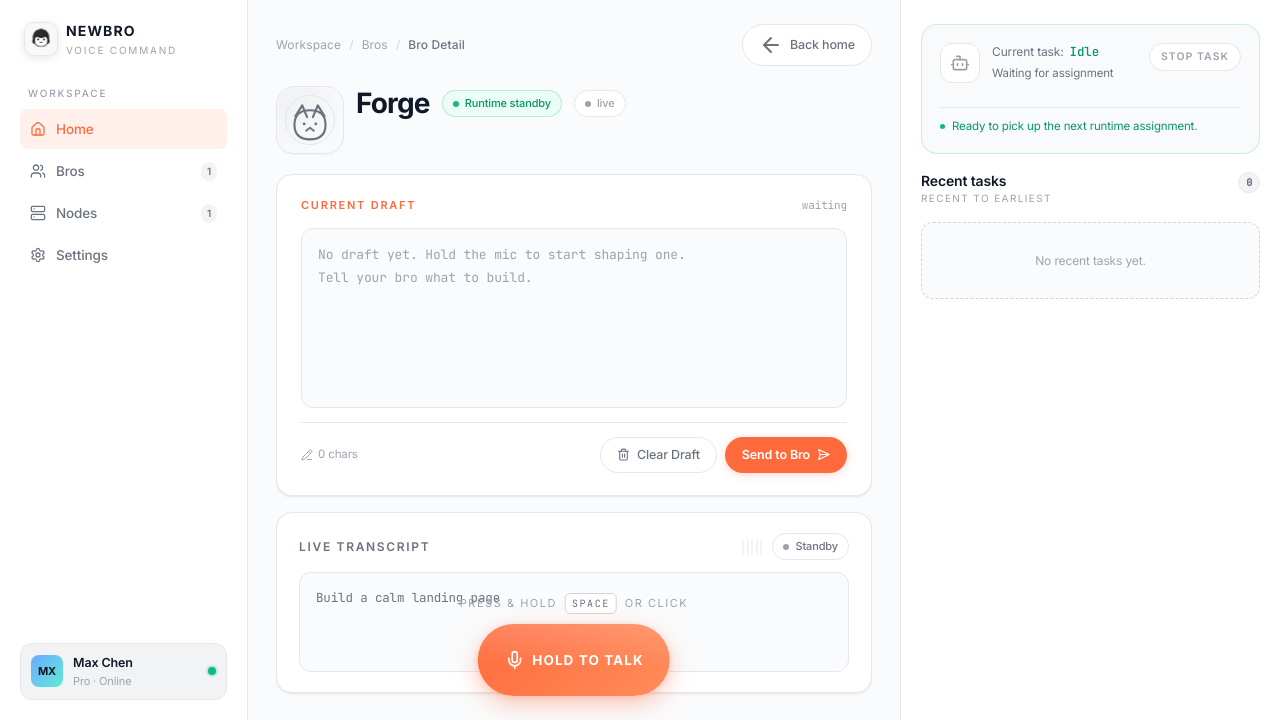
Test: Newbro voice shell › sends the current Bro detail draft to execution and resets the draft workspace
The width and height of the screenshot is (1280, 720).
Press the mouse on the button "Hold to Talk" at coordinates (574, 660), box [478, 624, 670, 696]
Wait 1200 ms
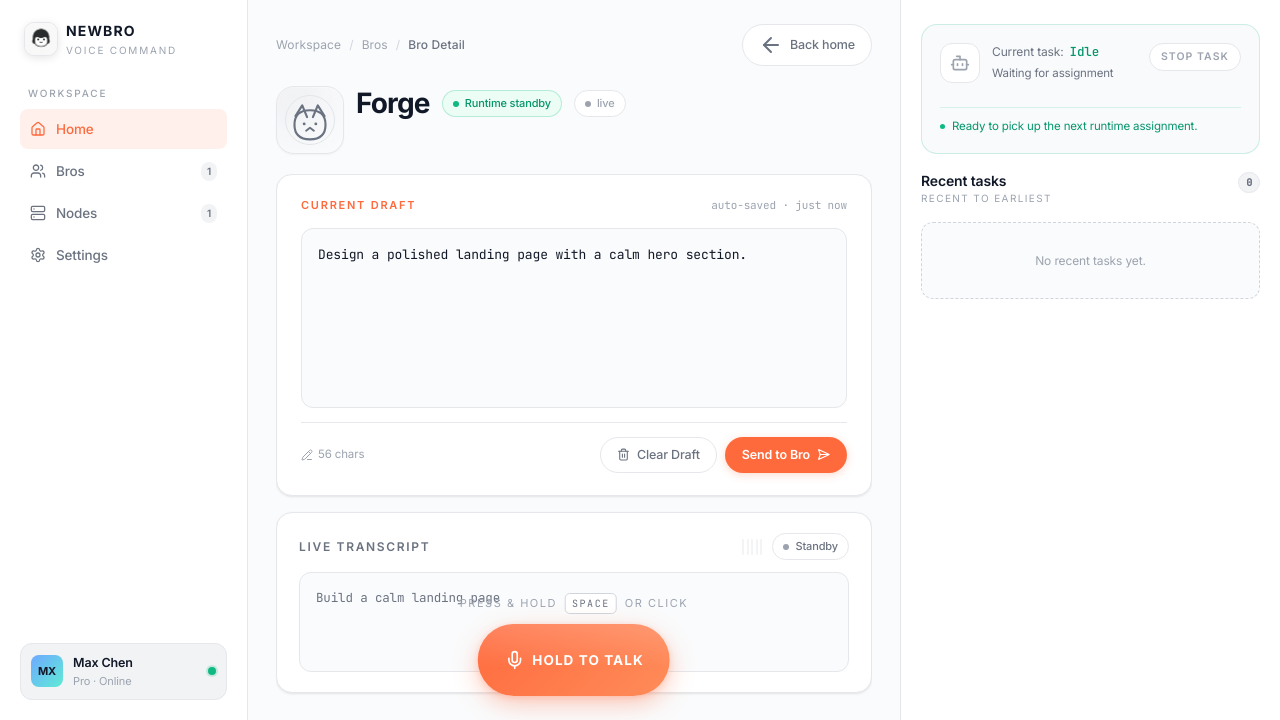
expect the text "Design a polished landing page with a calm hero section." is shown: met, box [301, 228, 847, 408]
Click the button "Send to Bro" at coordinates (786, 455), box [725, 436, 847, 473]
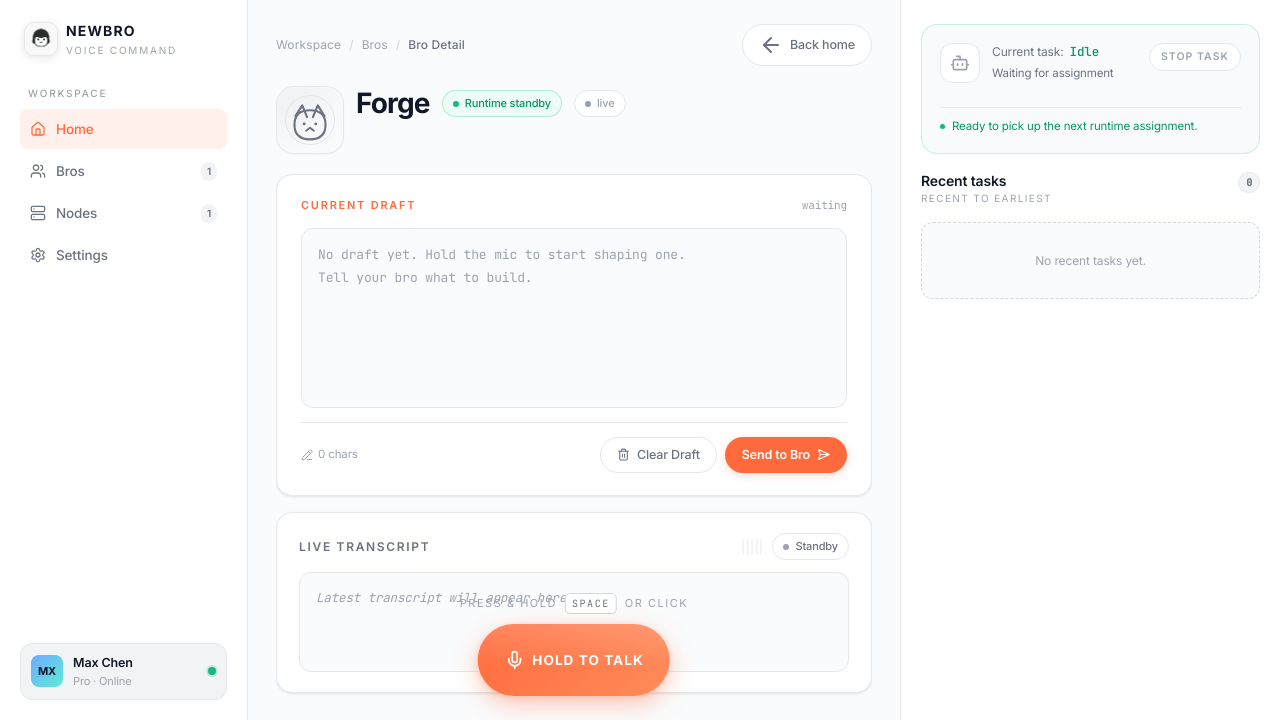
expect the text "Design a polished landing page with a calm hero section." is gone: met
expect the text "No draft yet. Hold the mic to start shaping one." is shown: met, box [318, 246, 686, 262]
expect the text "Latest transcript will appear here." is shown: met, box [299, 572, 849, 672]
